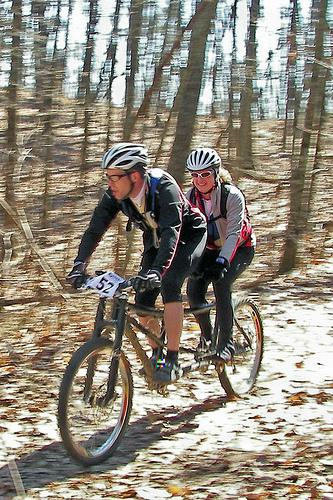car: (57, 263, 266, 464)
person: (65, 142, 210, 386), (183, 147, 258, 365)
